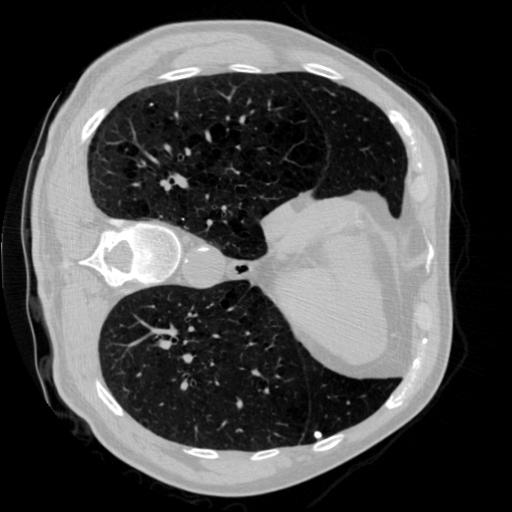nodule: (312, 428, 324, 440)
